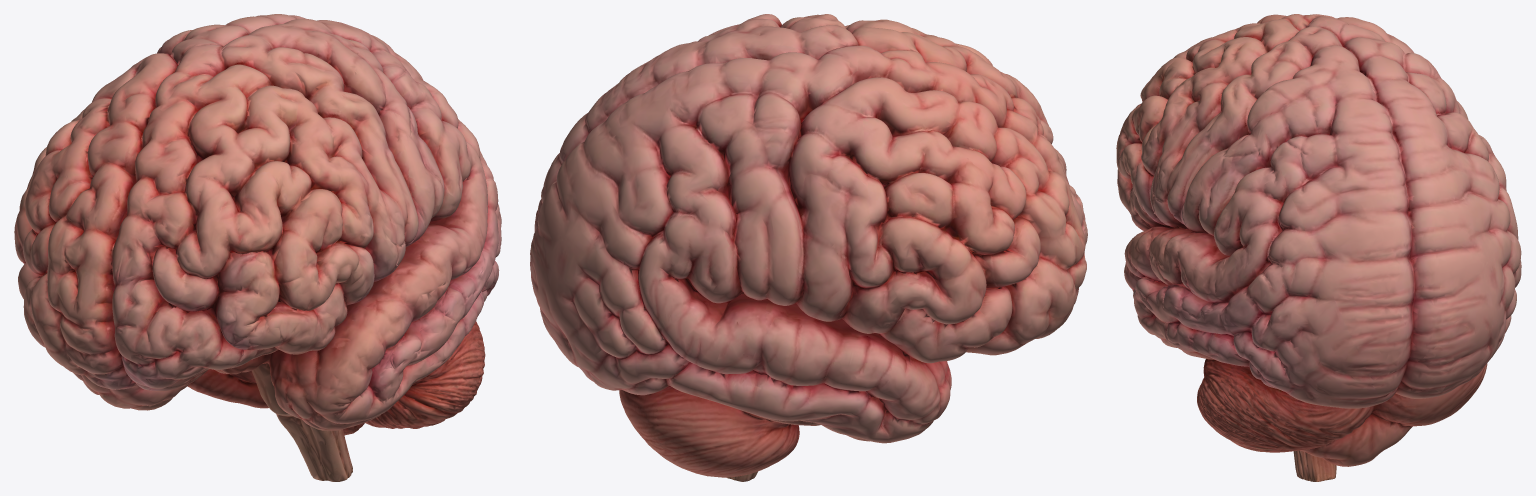
File: brain.glb
3 views of the same model, side by side, from view 1: azimuth 30°, elevation 25°; view 2: azimuth 150°, elevation 25°; view 3: azimuth 270°, elevation 25° (orthographic). The views are drawn at different scales.
Parts seen in each view (by area): view 1: tripo_node_938185c2-e59c-4f52-8e5e-bb526af0889b; view 2: tripo_node_938185c2-e59c-4f52-8e5e-bb526af0889b; view 3: tripo_node_938185c2-e59c-4f52-8e5e-bb526af0889b.
Boxes of the visible parts, x1=… form: tripo_node_938185c2-e59c-4f52-8e5e-bb526af0889b: x1=14, y1=14, x2=501, y2=481; tripo_node_938185c2-e59c-4f52-8e5e-bb526af0889b: x1=530, y1=14, x2=1087, y2=481; tripo_node_938185c2-e59c-4f52-8e5e-bb526af0889b: x1=1116, y1=14, x2=1521, y2=481.
Bounding box in the file's own units: 0.9803 × 0.9005 × 0.8078.
Materials: 1 (1 with a texture image).
